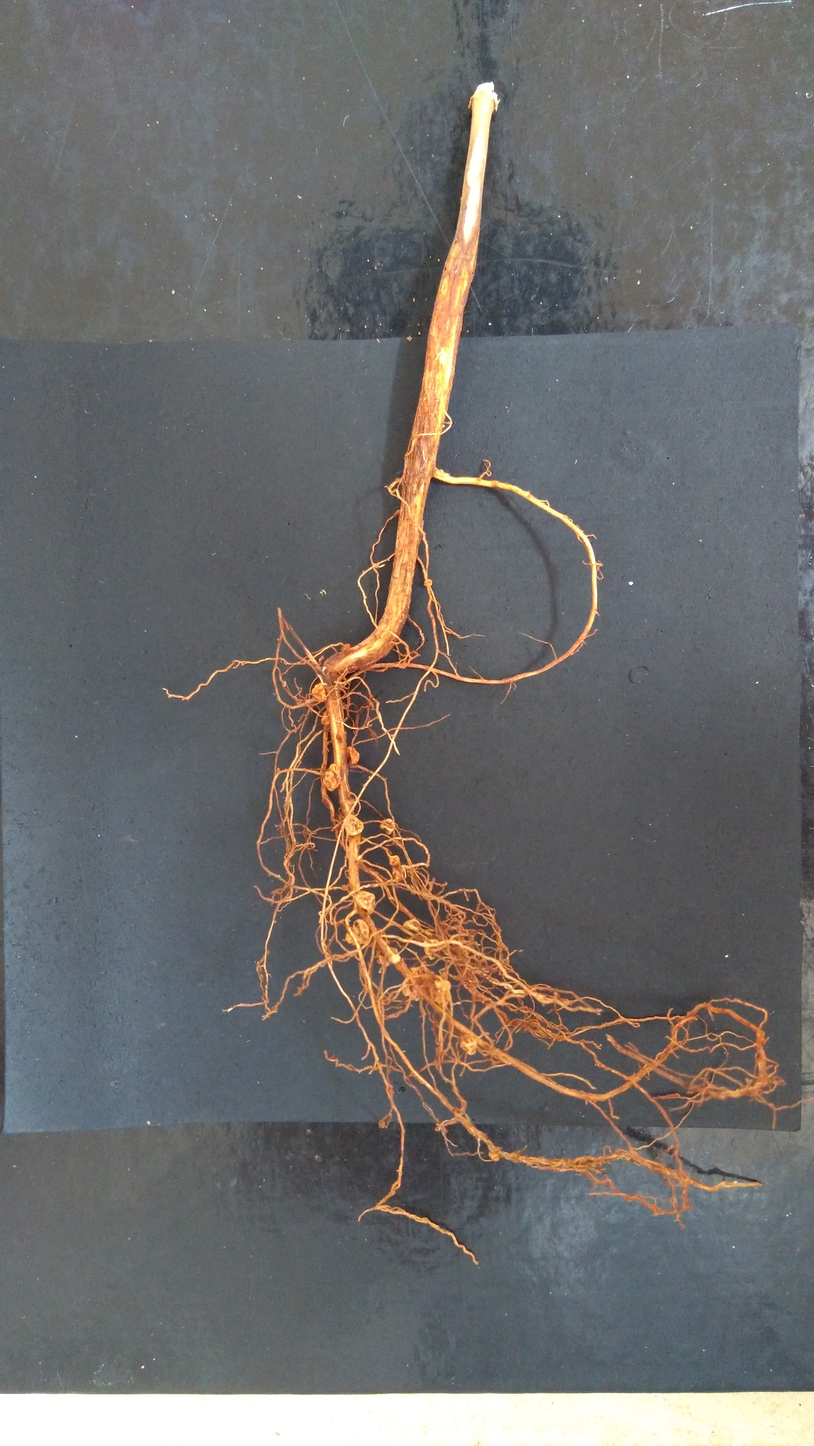nodule: (400, 965, 430, 1002), (431, 977, 452, 1008), (323, 761, 342, 793), (342, 812, 365, 837), (353, 889, 376, 914), (457, 1032, 479, 1058), (351, 916, 370, 945), (376, 945, 401, 967), (422, 938, 442, 962), (310, 681, 328, 702), (346, 745, 360, 767), (379, 817, 395, 836), (402, 917, 421, 933), (391, 866, 405, 882), (487, 1149, 501, 1162), (320, 710, 330, 726), (388, 854, 400, 867), (422, 578, 434, 588), (339, 643, 351, 652)
